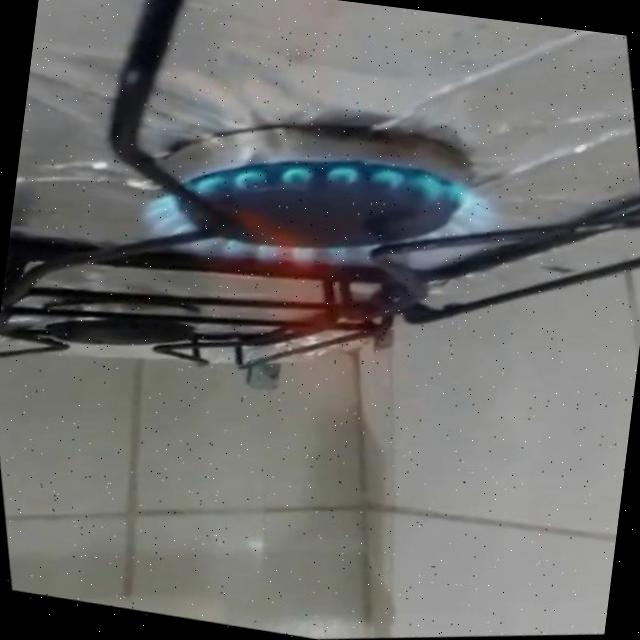fire: (100, 94, 564, 478)
